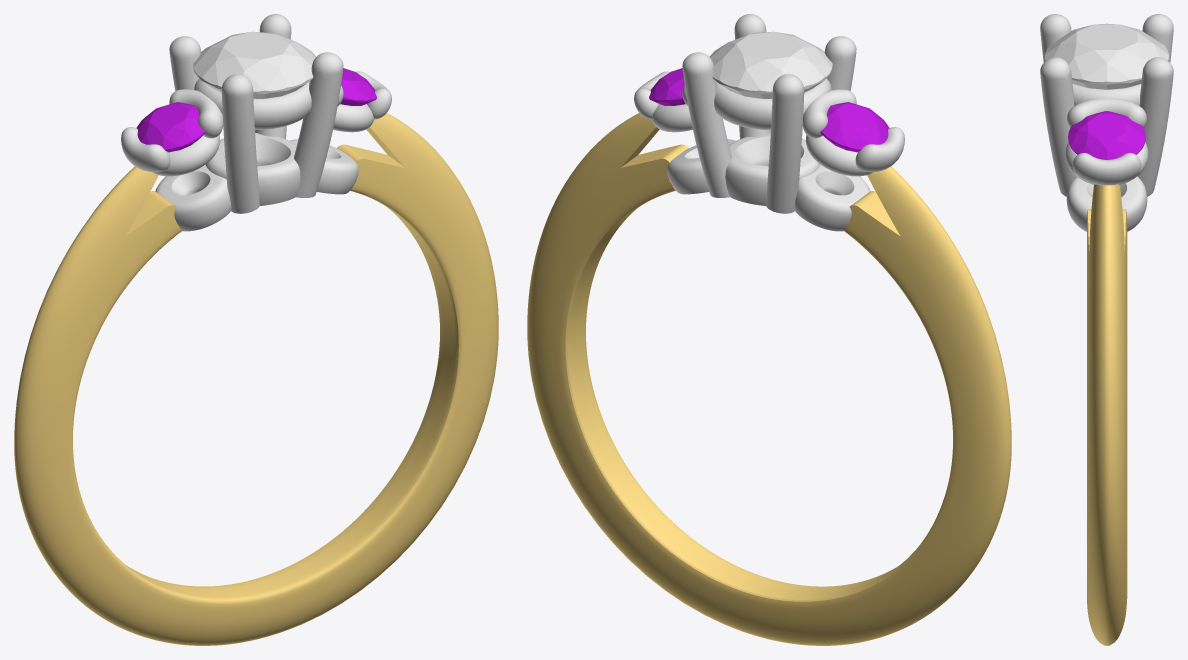
Rendered from JaxonPT_blender.glb.
The picture shows the model from 3 angles, left to right: view 1: azimuth 30°, elevation 25°; view 2: azimuth 150°, elevation 25°; view 3: azimuth 270°, elevation 25°; orthographic projection.
Visible parts, largest first — view 1: Jaxon YG for 3d model, Jaxon PT for 3d model, Jaxon dia for 3d model, Jaxon amethyst for 3d model.001, Jaxon amethyst for 3d model; view 2: Jaxon YG for 3d model, Jaxon PT for 3d model, Jaxon dia for 3d model, Jaxon amethyst for 3d model.001, Jaxon amethyst for 3d model; view 3: Jaxon YG for 3d model, Jaxon PT for 3d model, Jaxon dia for 3d model, Jaxon amethyst for 3d model.
Part boxes in pixels (bbox=[...]): Jaxon YG for 3d model: bbox=[14, 113, 498, 645]; Jaxon PT for 3d model: bbox=[121, 14, 391, 231]; Jaxon dia for 3d model: bbox=[193, 31, 316, 98]; Jaxon amethyst for 3d model.001: bbox=[136, 102, 205, 152]; Jaxon amethyst for 3d model: bbox=[340, 68, 376, 105]; Jaxon YG for 3d model: bbox=[527, 113, 1011, 645]; Jaxon PT for 3d model: bbox=[634, 14, 904, 231]; Jaxon dia for 3d model: bbox=[709, 31, 832, 98]; Jaxon amethyst for 3d model.001: bbox=[820, 102, 889, 152]; Jaxon amethyst for 3d model: bbox=[649, 68, 685, 105]; Jaxon YG for 3d model: bbox=[1087, 184, 1127, 645]; Jaxon PT for 3d model: bbox=[1040, 14, 1173, 231]; Jaxon dia for 3d model: bbox=[1045, 23, 1168, 89]; Jaxon amethyst for 3d model: bbox=[1068, 111, 1145, 159].
Bounding box in the file's own units: 17.64 × 20.71 × 4.3.
